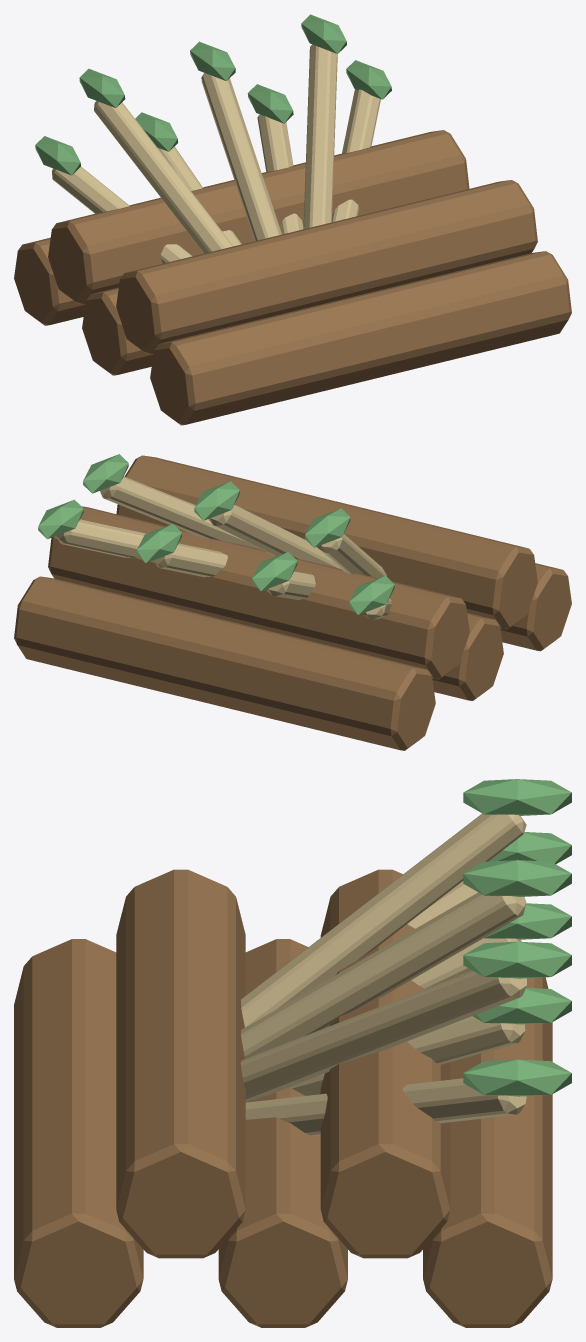
File: briarfen_willow_cuttings.glb
3 renders of one model, top to bottom at view 1: azimuth 30°, elevation 25°; view 2: azimuth 150°, elevation 25°; view 3: azimuth 270°, elevation 25°, orthographic. The views are drawn at different scales.
Size of the model in its own units: 1.56 by 0.8521 by 1.31.
